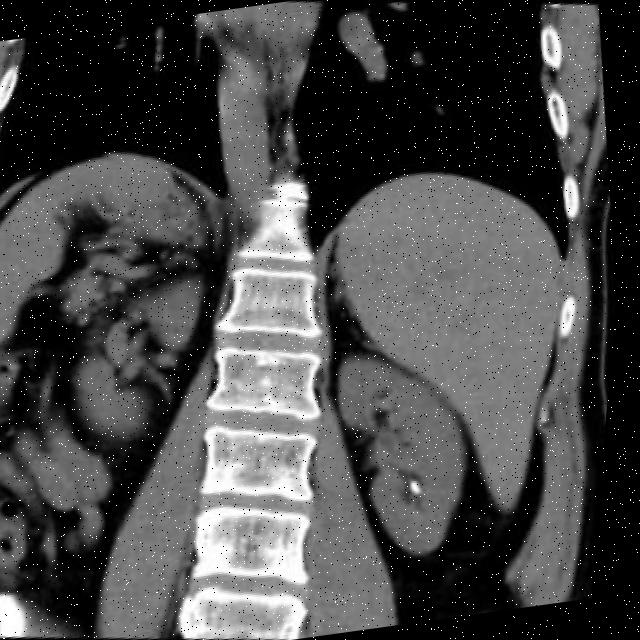Tas_Var: (411, 478, 432, 498)
